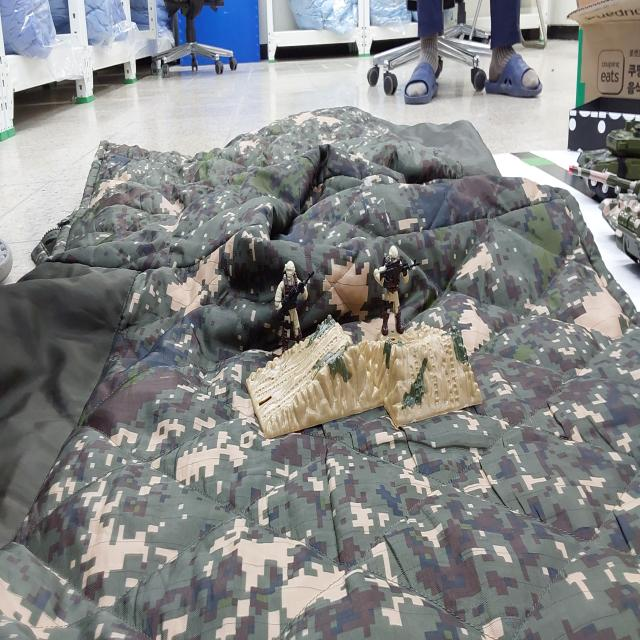ally: (373, 244, 414, 346), (274, 261, 311, 368)
